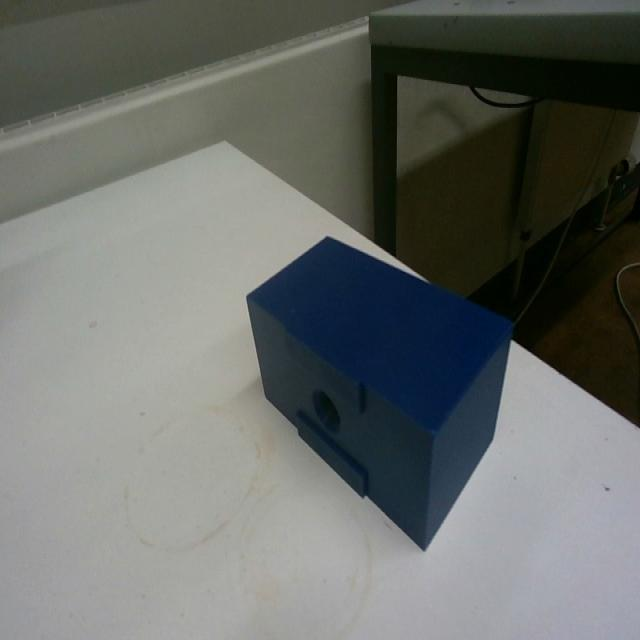Blue Cuboid: (243, 230, 516, 550)
